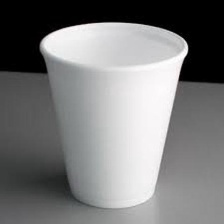paper_cup: (34, 16, 192, 213)
